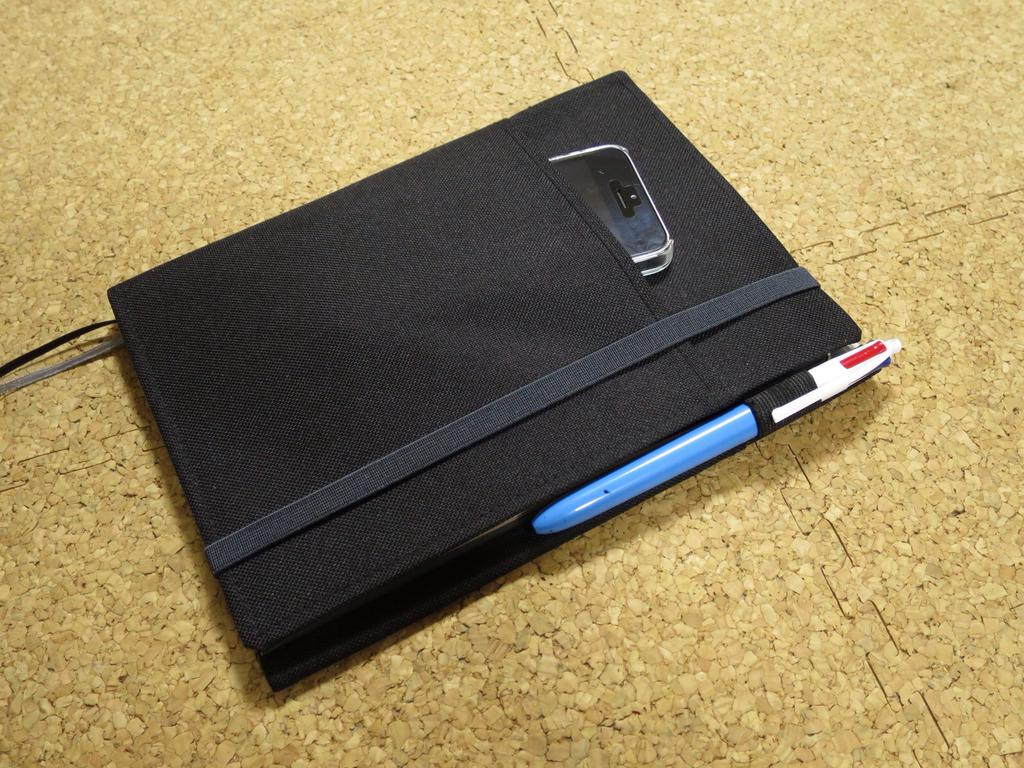pen: (530, 337, 902, 534)
